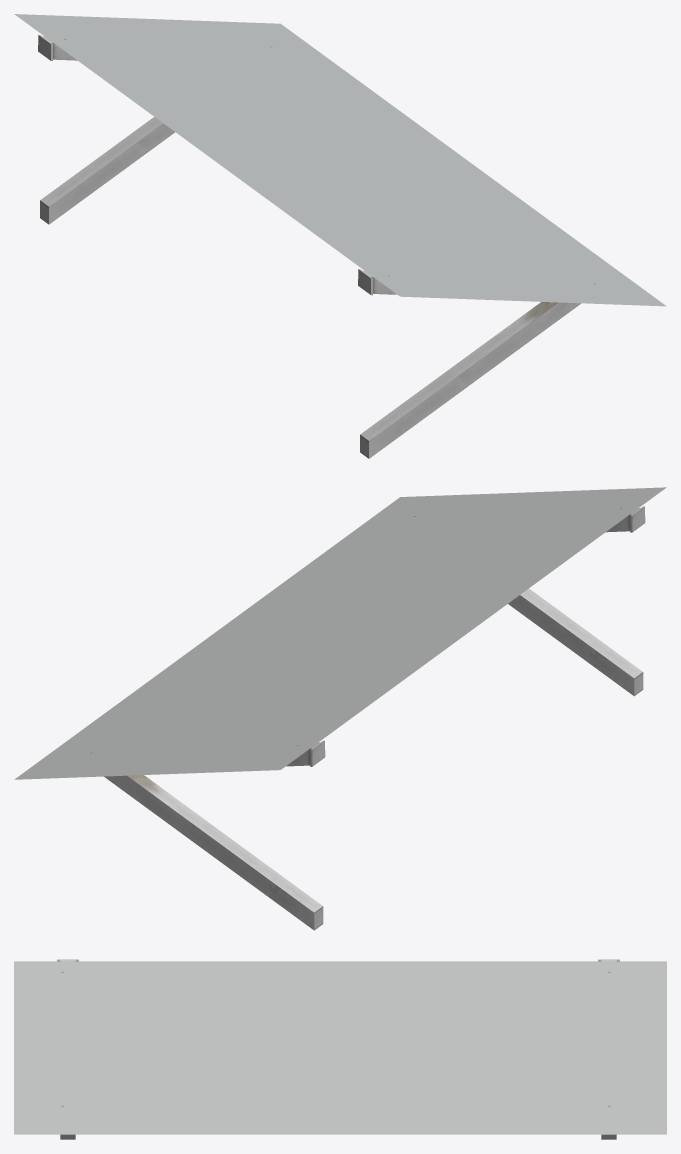
3 views of the same model, one above another, from view 1: azimuth 30°, elevation 25°; view 2: azimuth 150°, elevation 25°; view 3: azimuth 270°, elevation 25° (orthographic). The views are drawn at different scales.
Parts seen in each view (by area): view 1: profile.002; view 2: profile.002; view 3: profile.002.
Part boxes in pixels (box(x1,y1,x2,y2)): profile.002: box(14, 14, 666, 458); profile.002: box(14, 487, 666, 930); profile.002: box(14, 959, 666, 1139).
Bounding box in the file's own units: 114 × 73.24 × 282.
Materials: 2 (2 with a texture image).
